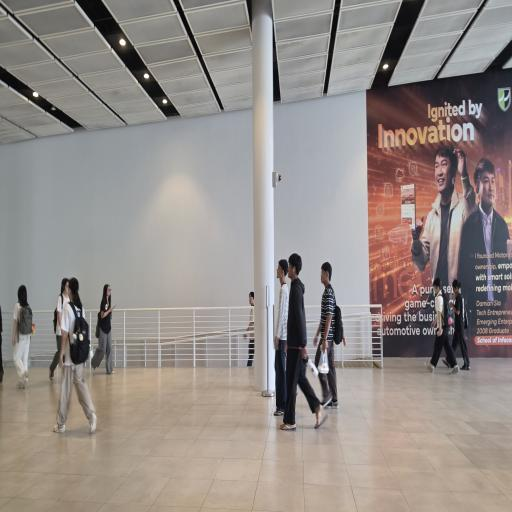person_left: (286, 246, 328, 446), (306, 252, 346, 415), (426, 268, 458, 381), (272, 243, 289, 413), (448, 272, 472, 374), (50, 268, 70, 382), (14, 278, 34, 388), (241, 280, 259, 366)
person_right: (55, 268, 98, 442), (91, 267, 118, 381)
